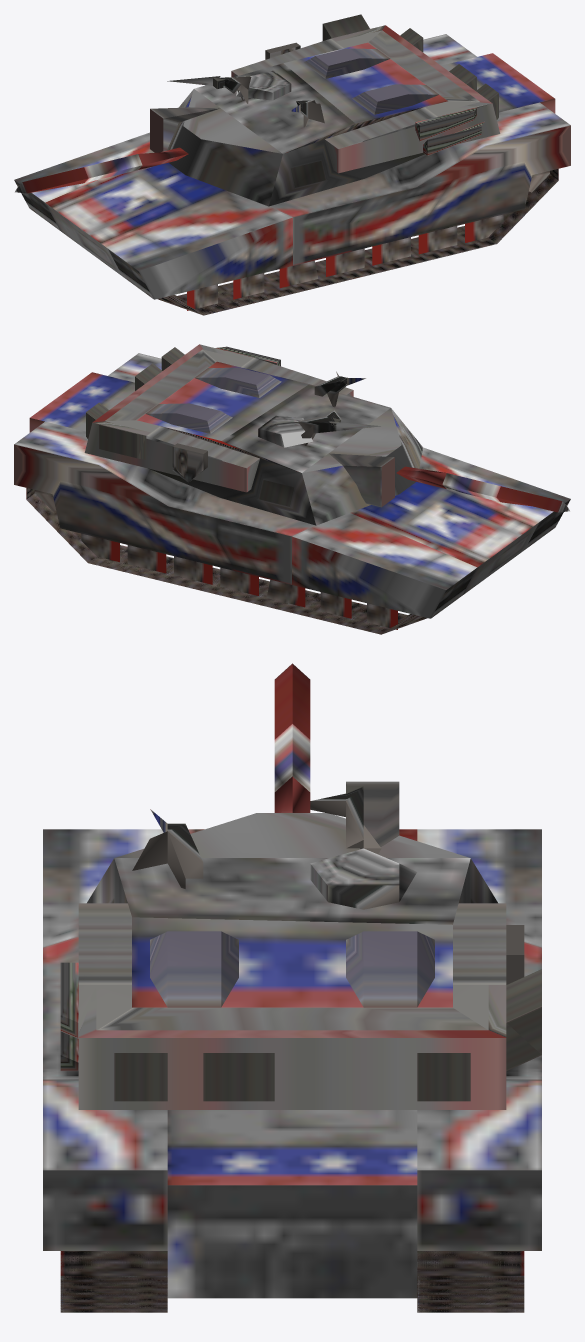
The model's file is slime1.ico.obj.
3 renders of one model, top to bottom at view 1: azimuth 30°, elevation 25°; view 2: azimuth 150°, elevation 25°; view 3: azimuth 270°, elevation 25°, orthographic. The views are drawn at different scales.
Size of the model in its own units: 4.95 by 1.58 by 2.1.
Materials: 1 (1 with a texture image).
